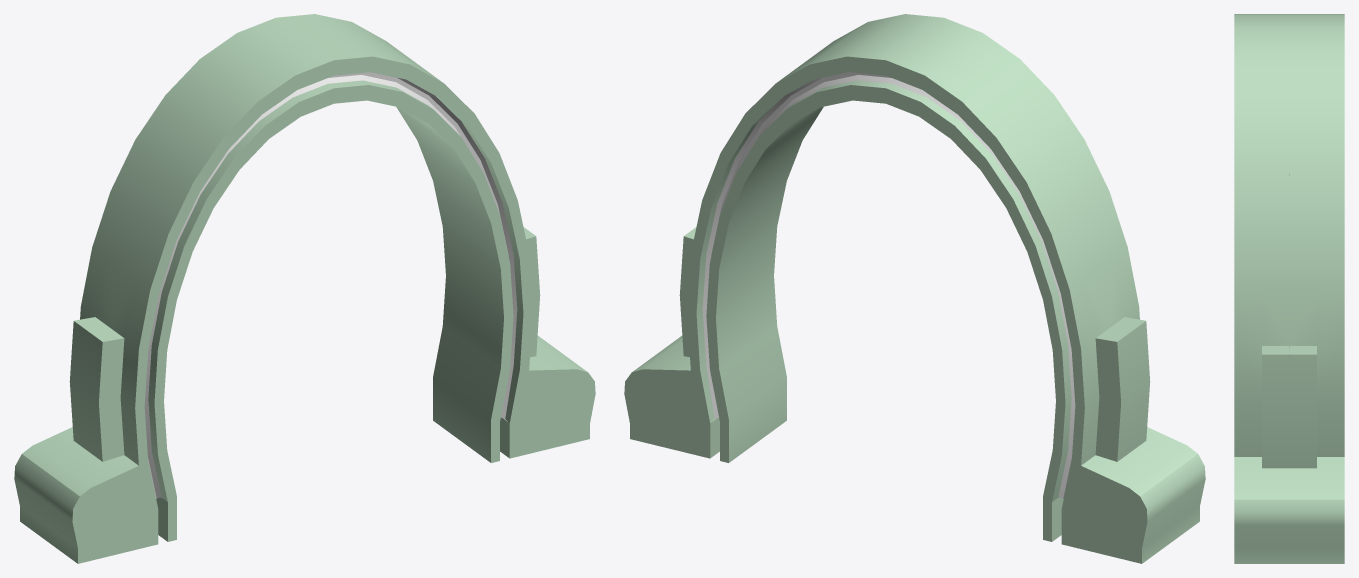
Rendered from portal.fbx.
The picture shows the model from 3 angles, left to right: view 1: azimuth 30°, elevation 25°; view 2: azimuth 150°, elevation 25°; view 3: azimuth 270°, elevation 25°; orthographic projection. The views are drawn at different scales.
Parts seen in each view (by area): view 1: Circle.002; view 2: Circle.002; view 3: Circle.002.
Boxes of the visible parts, x1,y1,x2,y2 form: Circle.002: (14, 14, 595, 563); Circle.002: (624, 14, 1205, 563); Circle.002: (1234, 14, 1344, 563).
Size of the model in its own units: 3.1 by 2.5 by 0.596.
